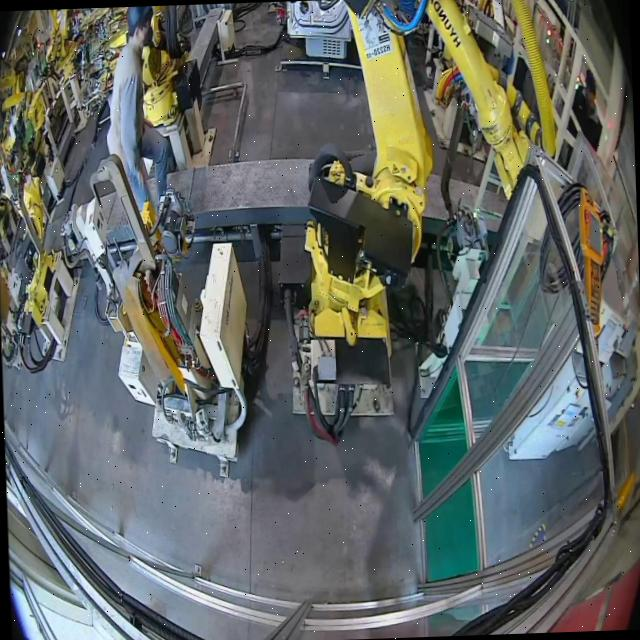Person: (102, 5, 174, 215), (564, 66, 603, 154)
